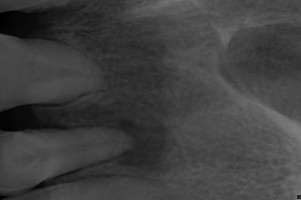Furcation Involvement: (111, 120, 176, 171)
